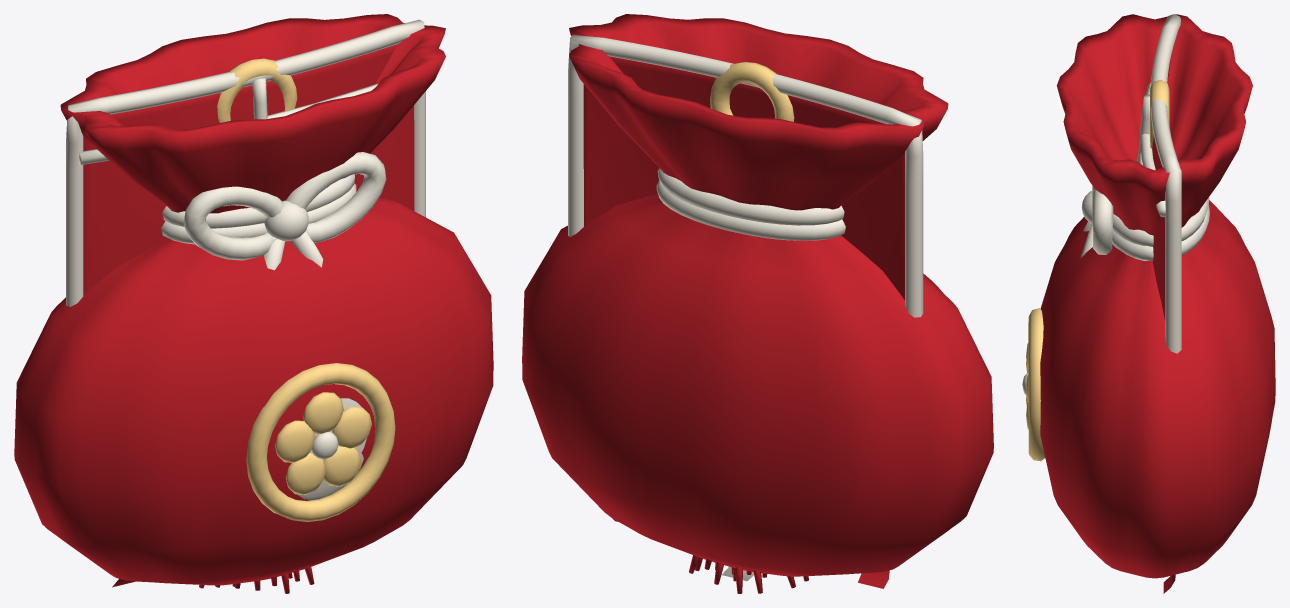
The model's file is ornaments-newyear.glb.
The picture shows the model from 3 angles, left to right: view 1: azimuth 30°, elevation 25°; view 2: azimuth 150°, elevation 25°; view 3: azimuth 270°, elevation 25°; orthographic projection. The views are drawn at different scales.
Visible parts, largest first — view 1: t_Orn_Pouch, t_Orn_Kite, t_Orn_Norigae; view 2: t_Orn_Pouch, t_Orn_Kite, t_Orn_Norigae; view 3: t_Orn_Pouch, t_Orn_Kite, t_Orn_Norigae.
Part boxes in pixels (x1,y1,x2,y2): t_Orn_Pouch: (14, 14, 493, 585); t_Orn_Kite: (66, 19, 425, 587); t_Orn_Norigae: (199, 58, 314, 593); t_Orn_Pouch: (522, 14, 993, 576); t_Orn_Kite: (568, 35, 923, 588); t_Orn_Norigae: (689, 62, 808, 593); t_Orn_Pouch: (1022, 14, 1275, 578); t_Orn_Kite: (1137, 14, 1181, 593); t_Orn_Norigae: (1150, 80, 1169, 149).
Size of the model in its own units: 1.94 by 2.08 by 1.02.
